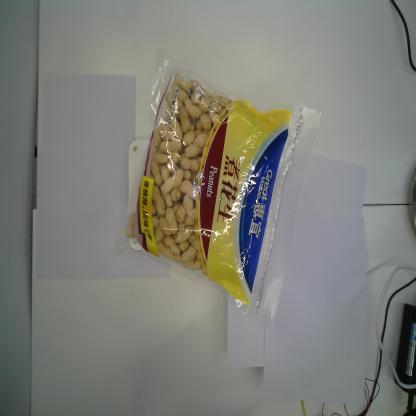Dried Food: (114, 47, 323, 330)
